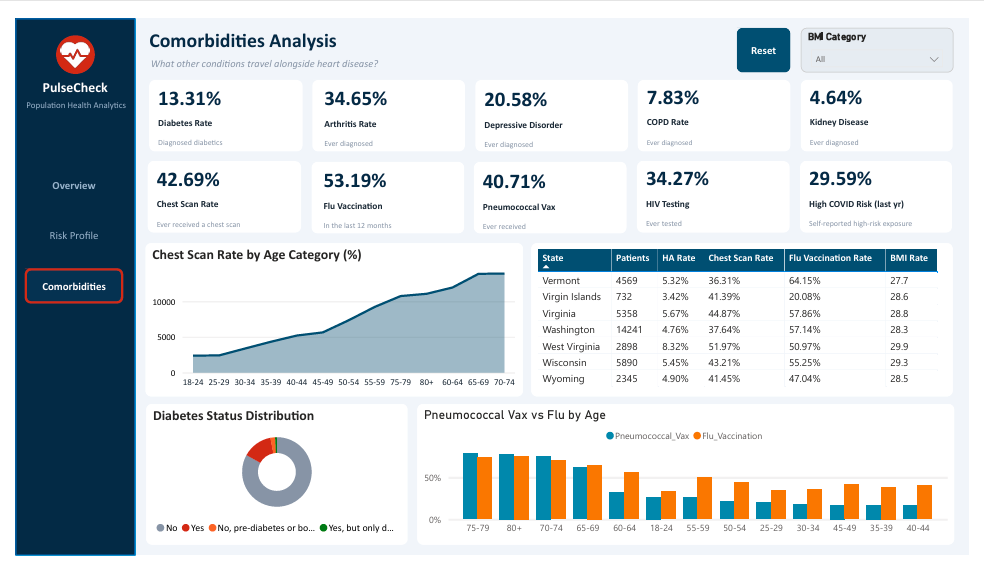

This screenshot's page, from the dashboard's own definition file:
{"tool":"powerbi","page":{"name":"Comorbidities Analysis","canvas":[1280,720],"ordinal":2},"visuals":[{"type":"group","id":"g1","title":"Group 3","box":[0,0,159.6,720],"z":0},{"type":"shape","box":[0,0,159.6,720],"z":0,"group":"g1"},{"type":"group","id":"g2","title":"Group 1","box":[53.3,21.6,51.8,51.8],"z":0,"group":"g3"},{"type":"shape","box":[53.3,21.6,51.8,51.8],"z":0,"group":"g2"},{"type":"shape","box":[178.6,82.1,205.9,96.5],"z":0,"group":"g4"},{"type":"multiRowCard","fields":{"Values":["_Measures.COPD_Rate"]},"box":[842.4,82.1,188.6,44.3],"z":0,"group":"g20"},{"type":"multiRowCard","fields":{"Values":["_Measures.Kidney_Disease"]},"box":[1061.3,82.1,188.6,44.3],"z":0,"group":"g22"},{"type":"multiRowCard","fields":{"Values":["_Measures.Diabetes_Rate"]},"box":[185.8,82.9,188.6,44.3],"z":0,"group":"g14"},{"type":"multiRowCard","fields":{"Values":["_Measures.Arthritis_Rate"]},"box":[409,84.4,188.6,44.3],"z":0,"group":"g16"},{"type":"multiRowCard","fields":{"Values":["_Measures.Depressive_Disorder"]},"box":[623.5,85,188.6,44.3],"z":0,"group":"g18"},{"type":"shape","box":[177,191.4,205.9,96.5],"z":0,"group":"g9"},{"type":"multiRowCard","fields":{"Values":["_Measures.HIV_Testing"]},"box":[840.9,191.4,188.6,44.3],"z":0,"group":"g21"},{"type":"multiRowCard","fields":{"Values":["_Measures.High COVID Risk (last yr)"]},"box":[1059.8,191.4,188.6,44.3],"z":0,"group":"g23"},{"type":"multiRowCard","fields":{"Values":["_Measures.Chest_Scan_Rate"]},"box":[184.2,192.2,188.6,44.3],"z":0,"group":"g15"},{"type":"multiRowCard","fields":{"Values":["_Measures.Flu_Vaccination"]},"box":[407.5,193.8,188.6,44.3],"z":0,"group":"g17"},{"type":"multiRowCard","fields":{"Values":["_Measures.Pneumococcal_Vax"]},"box":[622,194.4,188.6,44.3],"z":0,"group":"g19"},{"type":"group","id":"g3","title":"Group 2","box":[11.5,21.6,135.4,86.4],"z":1000,"group":"g1"},{"type":"image","box":[59.1,28.8,38.9,38.9],"z":1000,"group":"g2"},{"type":"textbox","box":[11.5,74.9,135.4,33.1],"z":1000,"group":"g3"},{"type":"shape","box":[398.2,82.3,204.9,95.7],"z":1000,"group":"g5"},{"type":"textbox","box":[9,100,148.3,27.4],"z":1000},{"type":"textbox","box":[842.4,124.2,188.6,27.1],"z":1000,"group":"g20"},{"type":"textbox","box":[1061.3,124.2,188.6,27.1],"z":1000,"group":"g22"},{"type":"textbox","box":[185.8,125,188.6,27.1],"z":1000,"group":"g14"},{"type":"textbox","box":[409,126.5,188.6,27.1],"z":1000,"group":"g16"},{"type":"textbox","box":[623.5,127.1,188.6,27.1],"z":1000,"group":"g18"},{"type":"shape","box":[396.7,191.7,204.9,95.7],"z":1000,"group":"g10"},{"type":"textbox","box":[840.9,233.5,188.6,27.1],"z":1000,"group":"g21"},{"type":"textbox","box":[1059.8,233.5,188.6,27.1],"z":1000,"group":"g23"},{"type":"textbox","box":[184.2,234.3,188.6,27.1],"z":1000,"group":"g15"},{"type":"textbox","box":[407.5,235.9,188.6,27.1],"z":1000,"group":"g17"},{"type":"textbox","box":[622,236.5,188.6,27.1],"z":1000,"group":"g19"},{"type":"group","id":"g4","title":"Group 5","box":[178.6,82.1,205.9,96.5],"z":2000},{"type":"shape","box":[616.8,82.3,204.9,95.7],"z":2000,"group":"g6"},{"type":"textbox","box":[842.4,150,188.6,27.1],"z":2000,"group":"g20"},{"type":"textbox","box":[1061.3,150,188.6,27.1],"z":2000,"group":"g22"},{"type":"textbox","box":[185.8,150.8,188.6,27.1],"z":2000,"group":"g14"},{"type":"textbox","box":[409,152.3,188.6,27.1],"z":2000,"group":"g16"},{"type":"textbox","box":[623.5,152.9,188.6,27.1],"z":2000,"group":"g18"},{"type":"shape","box":[615.3,191.7,204.9,95.7],"z":2000,"group":"g11"},{"type":"actionButton","box":[11.5,200.2,132.5,47.5],"z":2000,"group":"g1"},{"type":"textbox","box":[840.9,259.3,188.6,27.1],"z":2000,"group":"g21"},{"type":"textbox","box":[1059.8,259.3,188.6,27.1],"z":2000,"group":"g23"},{"type":"textbox","box":[184.2,260.1,188.6,27.1],"z":2000,"group":"g15"},{"type":"textbox","box":[407.5,261.7,188.6,27.1],"z":2000,"group":"g17"},{"type":"textbox","box":[622,262.3,188.6,27.1],"z":2000,"group":"g19"},{"type":"group","id":"g5","title":"Group 6","box":[398.2,82.3,204.9,97.2],"z":3000},{"type":"shape","box":[835.4,82.3,204.9,95.7],"z":3000,"group":"g7"},{"type":"shape","box":[833.9,191.6,204.9,95.7],"z":3000,"group":"g12"},{"type":"actionButton","box":[11.5,267.4,132.5,47.5],"z":3000,"group":"g1"},{"type":"shape","box":[1054.1,82.1,204.5,96.5],"z":4000,"group":"g8"},{"type":"group","id":"g6","title":"Group 7","box":[616.8,82.3,204.9,97.7],"z":4000},{"type":"shape","box":[1052.6,191.4,204.5,96.5],"z":4000,"group":"g13"},{"type":"actionButton","box":[11.5,334.6,132.5,47.5],"z":4000,"group":"g1"},{"type":"group","id":"g7","title":"Group 8","box":[835.4,82.1,204.9,96],"z":5000},{"type":"group","id":"g8","title":"Group 9","box":[1054.1,82.1,204.5,96.5],"z":6000},{"type":"textbox","box":[174.2,7.7,843.3,43],"z":7000},{"type":"textbox","box":[175.8,44.7,844.9,28.6],"z":8000},{"type":"slicer","title":"BMI Category","fields":{"Values":["Sheet1.BMI Category"]},"box":[1054.1,11.5,204.5,60.5],"z":9000},{"type":"actionButton","box":[967.7,11.5,72,60.5],"z":10000},{"type":"group","id":"g9","title":"Group 5","box":[177,191.4,205.9,96.5],"z":10001},{"type":"group","id":"g10","title":"Group 6","box":[396.7,191.7,204.9,97.2],"z":10002},{"type":"group","id":"g11","title":"Group 7","box":[615.3,191.7,204.9,97.7],"z":10003},{"type":"group","id":"g12","title":"Group 8","box":[833.9,191.4,204.9,96],"z":10004},{"type":"group","id":"g13","title":"Group 9","box":[1052.6,191.4,204.5,96.5],"z":10005},{"type":"lineChart","title":"Chest Scan Rate by Age Category (%)","fields":{"Category":["Sheet1.Age Group Formatted"],"Y":["Sum(Sheet1.ChestScan)"]},"box":[174.2,301,506.9,205.9],"z":10006},{"type":"donutChart","title":"Diabetes Status Distribution","fields":{"Y":["CountNonNull(Sheet1.PatientID)"],"Category":["Sheet1.HadDiabetes"]},"box":[174.7,517.4,351.1,188.1],"z":10007},{"type":"tableEx","fields":{"Values":["Sheet1.State","CountNonNull(Sheet1.PatientID)","_Measures.Heart_Attack_Rate","_Measures.Chest_Scan_Rate","_Measures.Flu_Vaccination","_Measures.Average_BMI"]},"box":[692.1,300.7,566.1,206.6],"z":10008},{"type":"clusteredColumnChart","title":"Pneumococcal Vax vs Flu by Age","fields":{"Category":["Sheet1.Age Group Formatted"],"Y":["_Measures.Pneumococcal_Vax","_Measures.Flu_Vaccination"]},"box":[539.2,517.4,720.6,188.1],"z":10009},{"type":"group","id":"g14","title":"Group 4","box":[185.8,82.9,188.6,95],"z":11003,"group":"g4"},{"type":"group","id":"g15","title":"Group 4","box":[184.2,192.2,188.6,95],"z":11003,"group":"g9"},{"type":"group","id":"g16","title":"Group 4","box":[409,84.4,188.6,95],"z":11004,"group":"g5"},{"type":"group","id":"g17","title":"Group 4","box":[407.5,193.8,188.6,95],"z":11004,"group":"g10"},{"type":"group","id":"g18","title":"Group 4","box":[623.5,85,188.6,95],"z":11005,"group":"g6"},{"type":"group","id":"g19","title":"Group 4","box":[622,194.4,188.6,95],"z":11005,"group":"g11"},{"type":"group","id":"g20","title":"Group 4","box":[842.4,82.1,188.6,95],"z":11006,"group":"g7"},{"type":"group","id":"g21","title":"Group 4","box":[840.9,191.4,188.6,95],"z":11006,"group":"g12"},{"type":"group","id":"g22","title":"Group 4","box":[1061.3,82.1,188.6,95],"z":11007,"group":"g8"},{"type":"group","id":"g23","title":"Group 4","box":[1059.8,191.4,188.6,95],"z":11007,"group":"g13"}]}

Visuals, with their boxes in screenshot pixels (x1, y1, x2, y2), scaled from the page's 1280x720 canvas onto the 984x568 screenshot:
"Group 3" group: 0 0 123 567
shape: 0 0 123 567
"Group 1" group: 41 17 81 58
shape: 41 17 81 58
shape: 137 65 296 141
multiRowCard - _Measures.COPD_Rate: 648 65 793 100
multiRowCard - _Measures.Kidney_Disease: 816 65 961 100
multiRowCard - _Measures.Diabetes_Rate: 143 65 288 100
multiRowCard - _Measures.Arthritis_Rate: 314 67 459 102
multiRowCard - _Measures.Depressive_Disorder: 479 67 624 102
shape: 136 151 294 227
multiRowCard - _Measures.HIV_Testing: 646 151 791 186
multiRowCard - _Measures.High COVID Risk (last yr): 815 151 960 186
multiRowCard - _Measures.Chest_Scan_Rate: 142 152 287 187
multiRowCard - _Measures.Flu_Vaccination: 313 153 458 188
multiRowCard - _Measures.Pneumococcal_Vax: 478 153 623 188
"Group 2" group: 9 17 113 85
image: 45 23 75 53
textbox: 9 59 113 85
shape: 306 65 464 140
textbox: 7 79 121 101
textbox: 648 98 793 119
textbox: 816 98 961 119
textbox: 143 99 288 120
textbox: 314 100 459 121
textbox: 479 100 624 122
shape: 305 151 462 227
textbox: 646 184 791 206
textbox: 815 184 960 206
textbox: 142 185 287 206
textbox: 313 186 458 207
textbox: 478 187 623 208
"Group 5" group: 137 65 296 141
shape: 474 65 632 140
textbox: 648 118 793 140
textbox: 816 118 961 140
textbox: 143 119 288 140
textbox: 314 120 459 142
textbox: 479 121 624 142
shape: 473 151 631 227
actionButton: 9 158 111 195
textbox: 646 205 791 226
textbox: 815 205 960 226
textbox: 142 205 287 227
textbox: 313 206 458 228
textbox: 478 207 623 228
"Group 6" group: 306 65 464 142
shape: 642 65 800 140
shape: 641 151 799 227
actionButton: 9 211 111 248
shape: 810 65 968 141
"Group 7" group: 474 65 632 142
shape: 809 151 966 227
actionButton: 9 264 111 301
"Group 8" group: 642 65 800 141
"Group 9" group: 810 65 968 141
textbox: 134 6 782 40
textbox: 135 35 785 58
"BMI Category" slicer: 810 9 968 57
actionButton: 744 9 799 57
"Group 5" group: 136 151 294 227
"Group 6" group: 305 151 462 228
"Group 7" group: 473 151 631 228
"Group 8" group: 641 151 799 227
"Group 9" group: 809 151 966 227
"Chest Scan Rate by Age Category (%)" lineChart: 134 237 524 400
"Diabetes Status Distribution" donutChart: 134 408 404 557
tableEx - Sheet1.State x CountNonNull(Sheet1.PatientID): 532 237 967 400
"Pneumococcal Vax vs Flu by Age" clusteredColumnChart: 415 408 968 557
"Group 4" group: 143 65 288 140
"Group 4" group: 142 152 287 227
"Group 4" group: 314 67 459 142
"Group 4" group: 313 153 458 228
"Group 4" group: 479 67 624 142
"Group 4" group: 478 153 623 228
"Group 4" group: 648 65 793 140
"Group 4" group: 646 151 791 226
"Group 4" group: 816 65 961 140
"Group 4" group: 815 151 960 226
